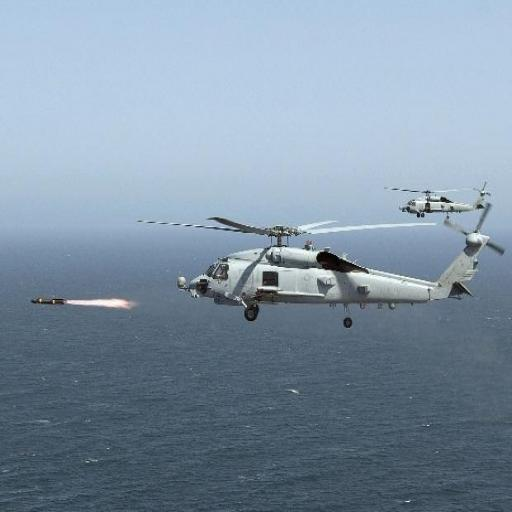helicopter: (112, 201, 457, 332), (382, 161, 497, 229)
